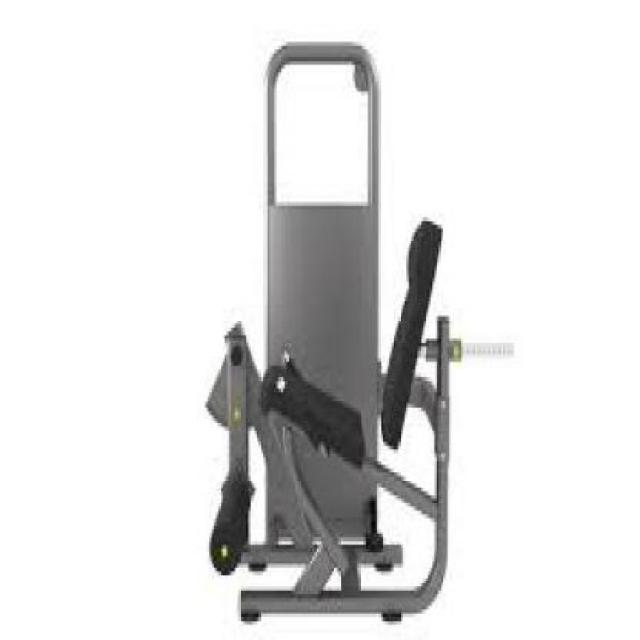leg extension: (200, 32, 466, 640)
